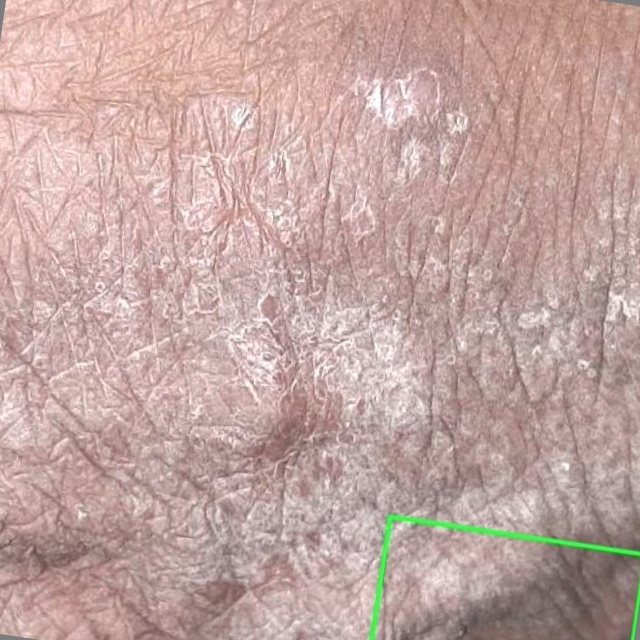Eczema: (371, 516, 639, 639)
